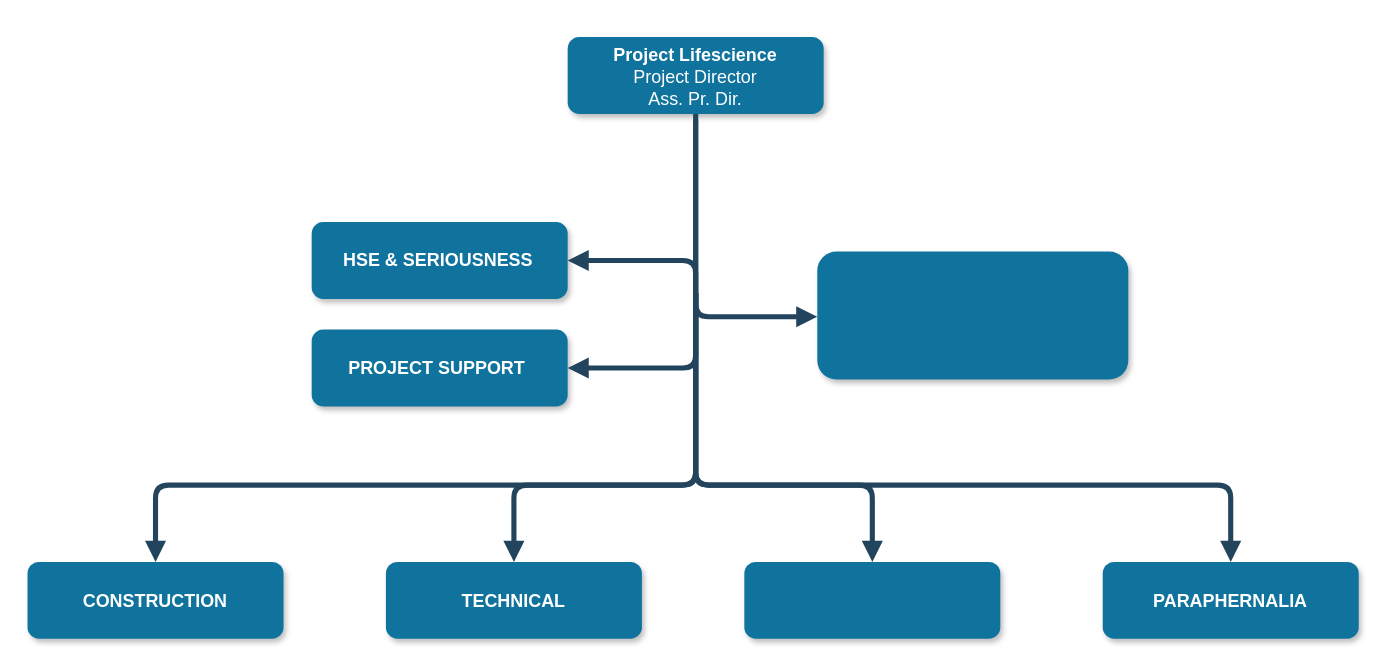
The diagram is 1388 pixels wide and 669 high, and some of its shapes have lost their labels. Each missing label, with the centre of its shape:
"DESIGN" goes at (873,601).
"SYSTEMATIC COMPLETION LEAN DIGITALIZATION LOGISTICS" goes at (973,317).
